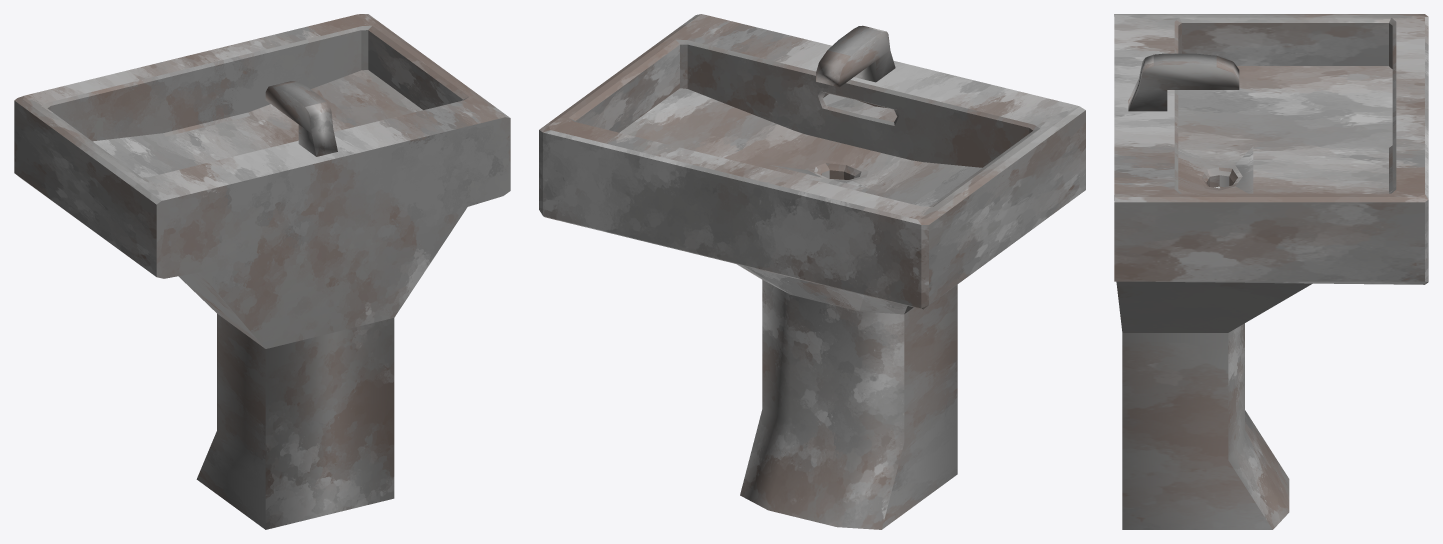
The model's file is sink2.fbx.
3 renders of one model, left to right at view 1: azimuth 30°, elevation 25°; view 2: azimuth 150°, elevation 25°; view 3: azimuth 270°, elevation 25°, orthographic. The views are drawn at different scales.
Parts seen in each view (by area): view 1: Cube.031; view 2: Cube.031; view 3: Cube.031.
Part boxes in pixels (x1,y1,x2,y2): Cube.031: (14,14,510,529); Cube.031: (539,14,1085,529); Cube.031: (1114,14,1428,529).
Size of the model in its own units: 284 by 307 by 200.
